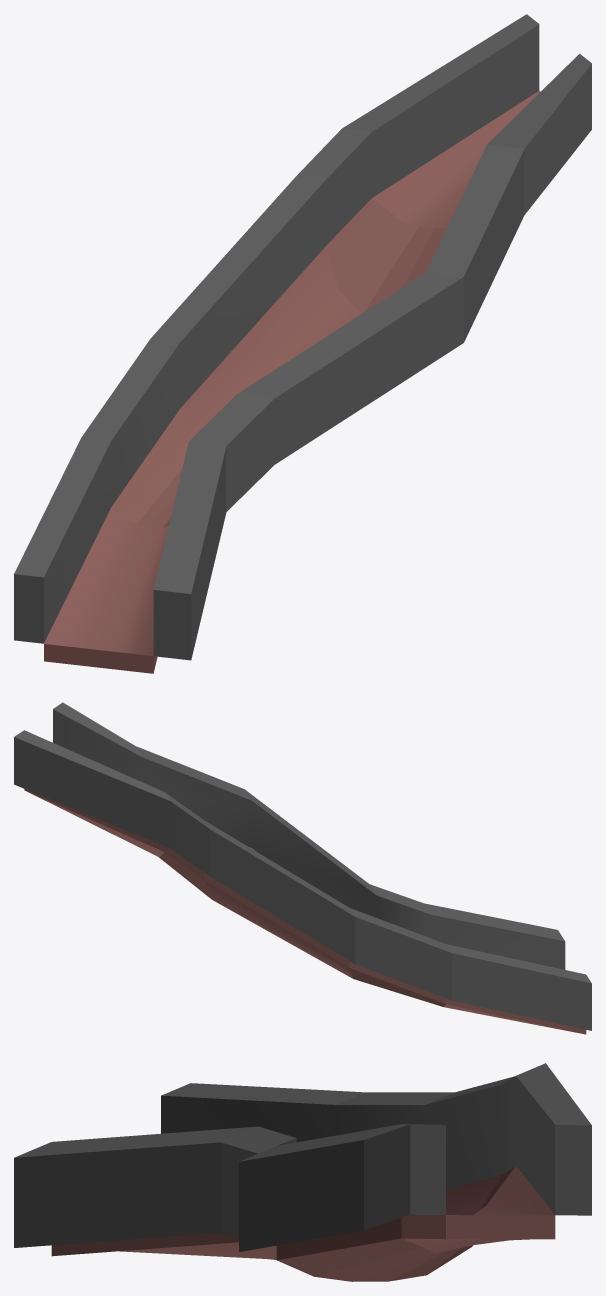
The model's file is FinalLevel_Blockout_Part1_NewRamp.fbx.
The picture shows the model from 3 angles, top to bottom: view 1: azimuth 30°, elevation 25°; view 2: azimuth 150°, elevation 25°; view 3: azimuth 270°, elevation 25°; orthographic projection. The views are drawn at different scales.
Parts seen in each view (by area): view 1: MudRamp5, MudRamp; view 2: MudRamp5, MudRamp; view 3: MudRamp5, MudRamp.
Part boxes in pixels (x1,y1,x2,y2): MudRamp5: (14, 14, 591, 660); MudRamp: (44, 90, 540, 673); MudRamp5: (14, 702, 591, 1030); MudRamp: (24, 789, 586, 1034); MudRamp5: (14, 1063, 591, 1251); MudRamp: (51, 1166, 555, 1281).
Bounding box in the file's own units: 9492 × 5154 × 5285.
